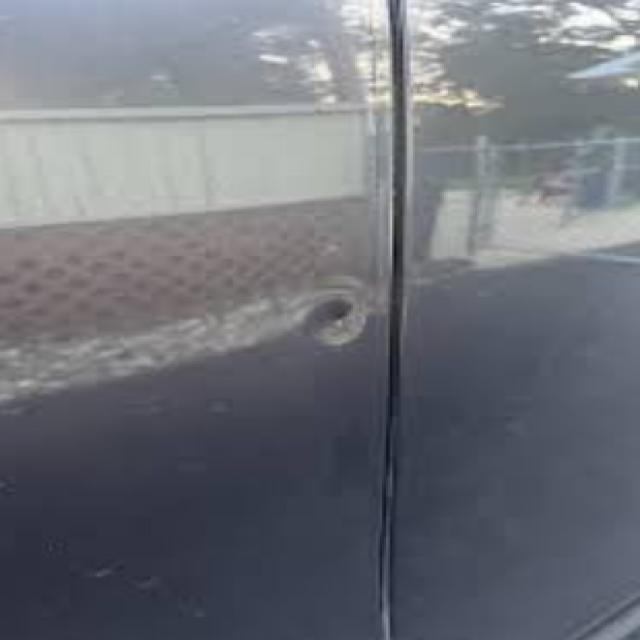dents: (255, 266, 413, 365)
